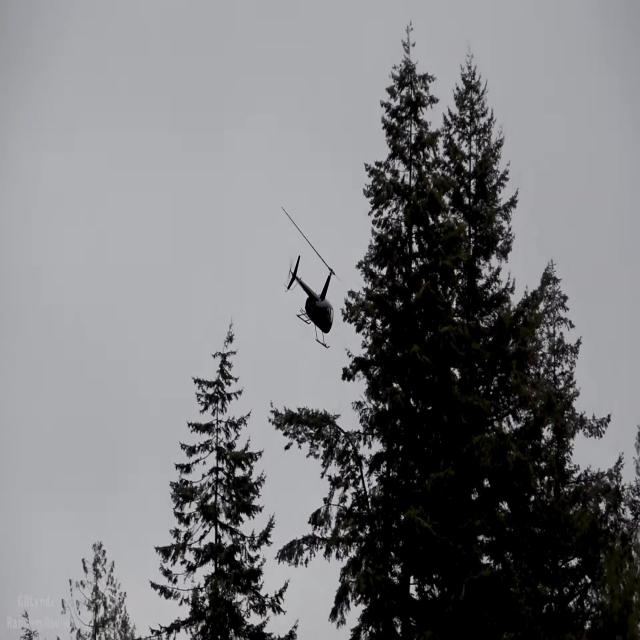CIV_HELO: (287, 254, 334, 350)
